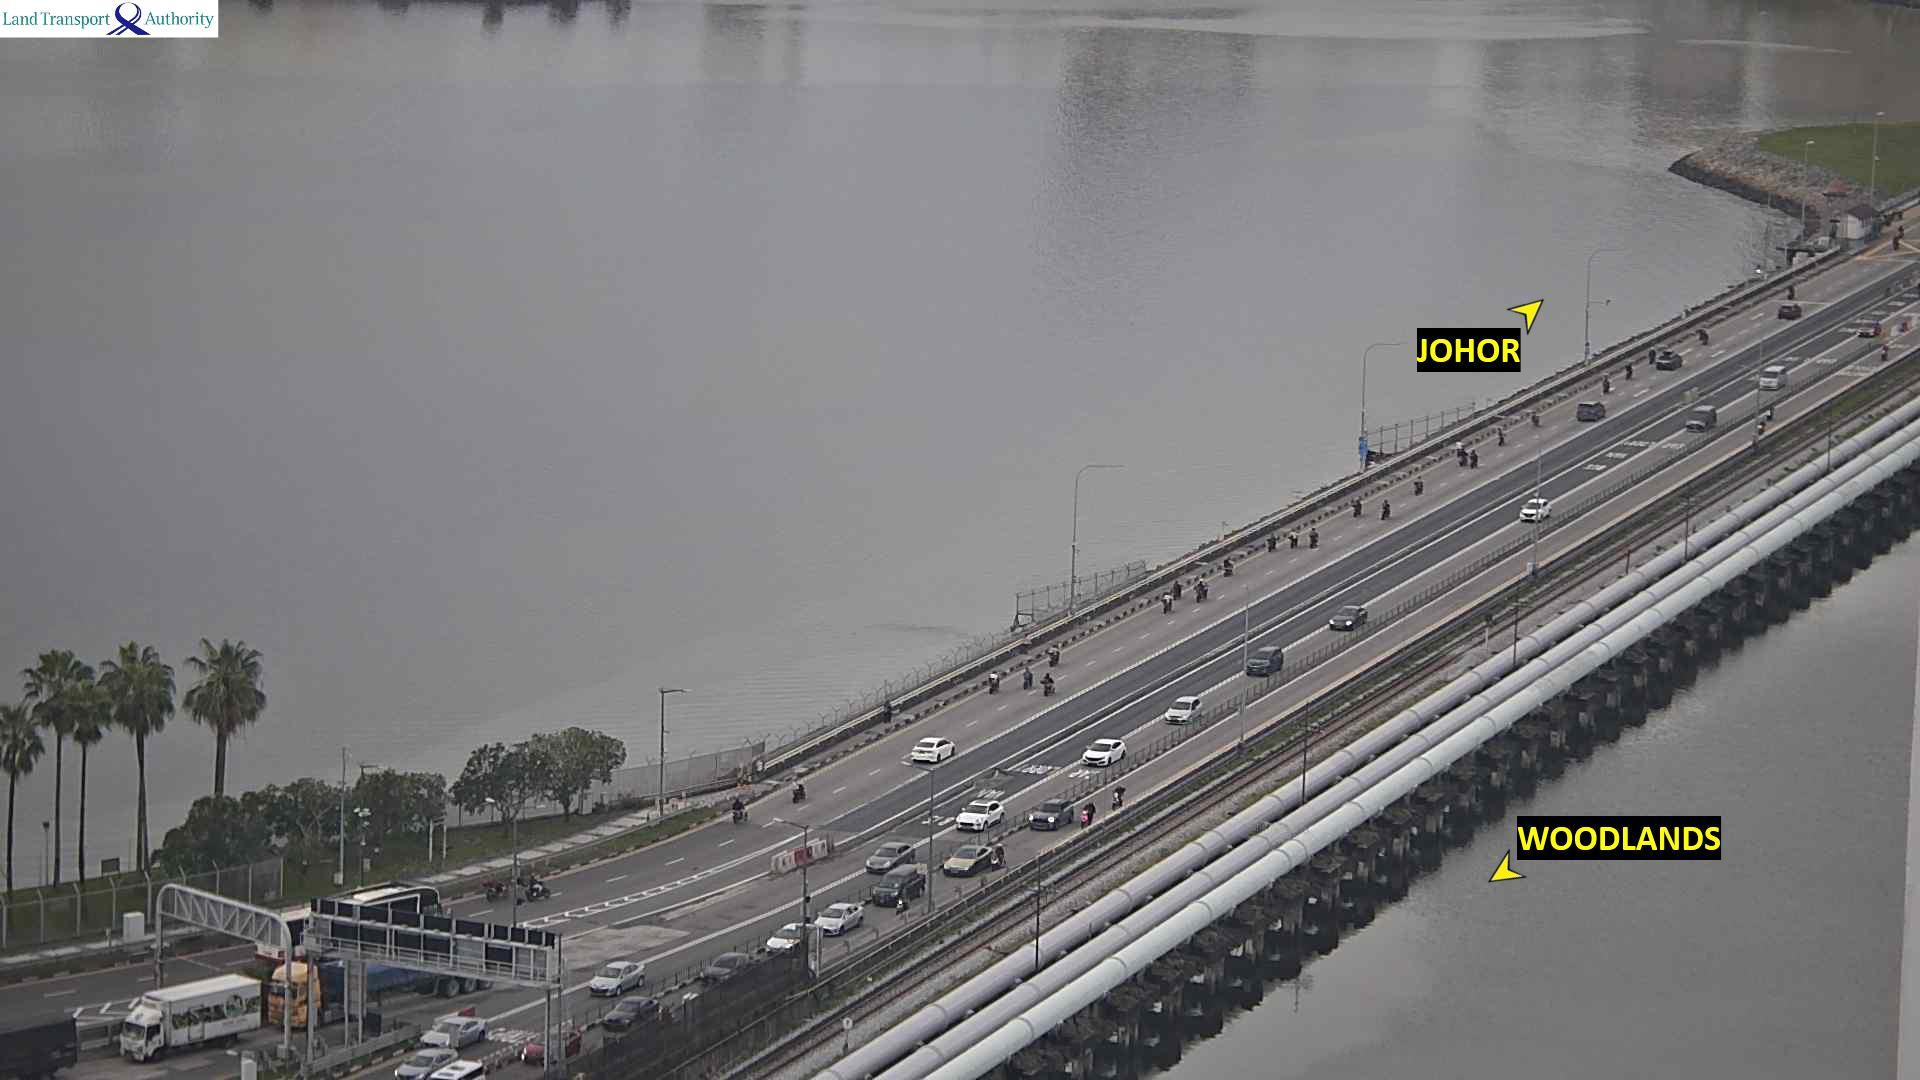vehicle-causeway-johor: (313, 890, 442, 915), (909, 736, 953, 762), (1573, 400, 1609, 422), (481, 880, 509, 905), (527, 874, 547, 902), (1656, 351, 1684, 371), (1778, 302, 1804, 318), (735, 790, 745, 824), (1779, 282, 1795, 305), (1697, 323, 1713, 344), (1456, 446, 1470, 467), (794, 779, 806, 802), (1195, 580, 1207, 603), (1048, 646, 1060, 667), (1046, 674, 1056, 696), (1381, 498, 1393, 518), (1495, 426, 1507, 446), (1412, 475, 1423, 495), (1625, 361, 1635, 381), (1602, 371, 1611, 392), (988, 670, 997, 690), (1311, 527, 1321, 545), (1023, 666, 1031, 688), (1225, 559, 1236, 575), (1531, 409, 1542, 425), (1353, 497, 1362, 514), (1469, 448, 1478, 465), (1267, 531, 1275, 551), (1163, 593, 1171, 612), (1290, 530, 1298, 547), (1647, 347, 1655, 364), (1174, 583, 1183, 596), (1892, 235, 1895, 251)
vehicle-causeway-singapore: (121, 971, 303, 1056), (261, 957, 504, 1010), (0, 1021, 76, 1079), (587, 963, 649, 993), (600, 1000, 666, 1027), (417, 1022, 488, 1047), (525, 1029, 583, 1059), (868, 876, 924, 906), (860, 841, 916, 870), (944, 847, 1001, 874), (703, 951, 754, 981), (396, 1051, 458, 1075), (953, 807, 1007, 833), (1031, 794, 1073, 827), (1079, 740, 1124, 767), (815, 909, 866, 932), (1247, 645, 1287, 674), (433, 1060, 487, 1080), (1166, 695, 1199, 727), (1332, 603, 1365, 628), (819, 903, 864, 919), (1759, 364, 1785, 389), (1520, 497, 1549, 520), (1683, 413, 1717, 431), (1857, 319, 1879, 338), (1116, 785, 1127, 807), (1083, 802, 1093, 824), (1767, 406, 1776, 419), (1882, 344, 1887, 359), (1759, 419, 1763, 433)
